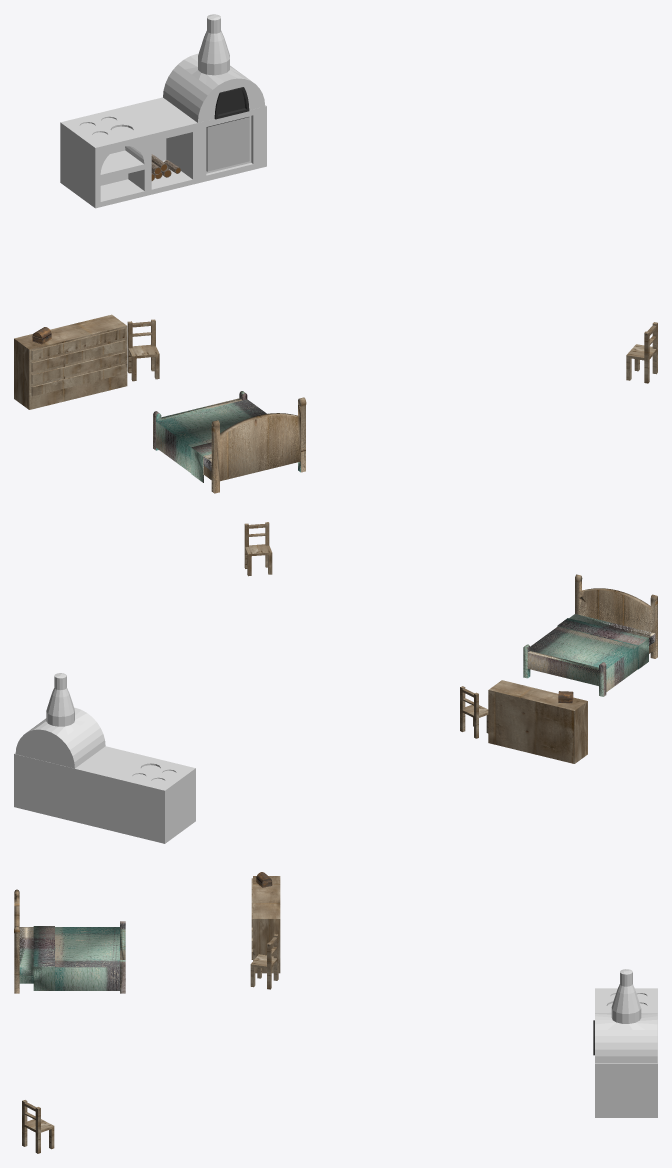
Rendered from Props.fbx.
The picture shows the model from 3 angles, top to bottom: view 1: azimuth 30°, elevation 25°; view 2: azimuth 150°, elevation 25°; view 3: azimuth 270°, elevation 25°; orthographic projection. The views are drawn at different scales.
Visible parts, largest first — view 1: Mesada, Cama, Comoda, Silla.003, Silla.006; view 2: Mesada, Cama, Comoda, Silla.006, Silla.003; view 3: Mesada, Cama, Comoda, Silla.006, Silla.003.
Part boxes in pixels (x1,y1,x2,y2): Mesada: (60,14,266,208); Cama: (153,391,306,493); Comoda: (14,314,127,409); Silla.003: (127,319,159,381); Silla.006: (626,322,657,383); Mesada: (14,673,195,843); Cama: (523,574,657,696); Comoda: (488,680,587,763); Silla.006: (244,522,272,576); Silla.003: (460,686,488,738); Mesada: (593,969,657,1117); Cama: (14,889,125,993); Comoda: (251,876,280,973); Silla.006: (22,1100,54,1153); Silla.003: (250,934,278,989).
Bounding box in the file's own units: 882 × 242 × 1072.
